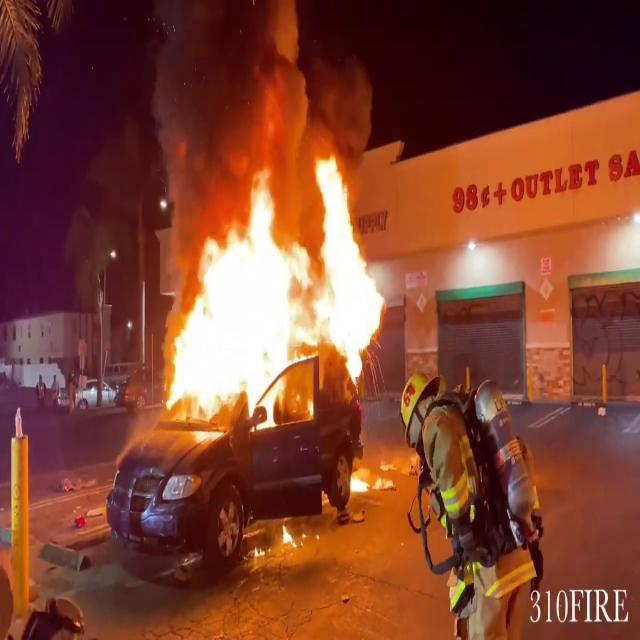Fire: (158, 127, 390, 426)
Smoke: (150, 0, 314, 205)
